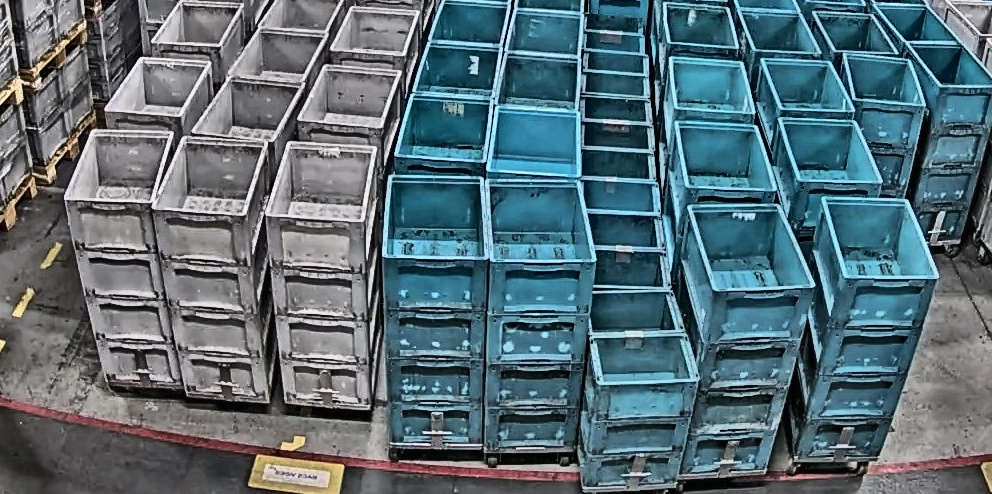4G: (151, 133, 278, 400), (62, 128, 185, 387), (263, 140, 380, 408)
B4: (786, 196, 941, 459), (674, 202, 816, 477), (481, 179, 600, 451), (379, 173, 492, 444), (838, 52, 928, 198)
B8: (575, 289, 702, 489)
